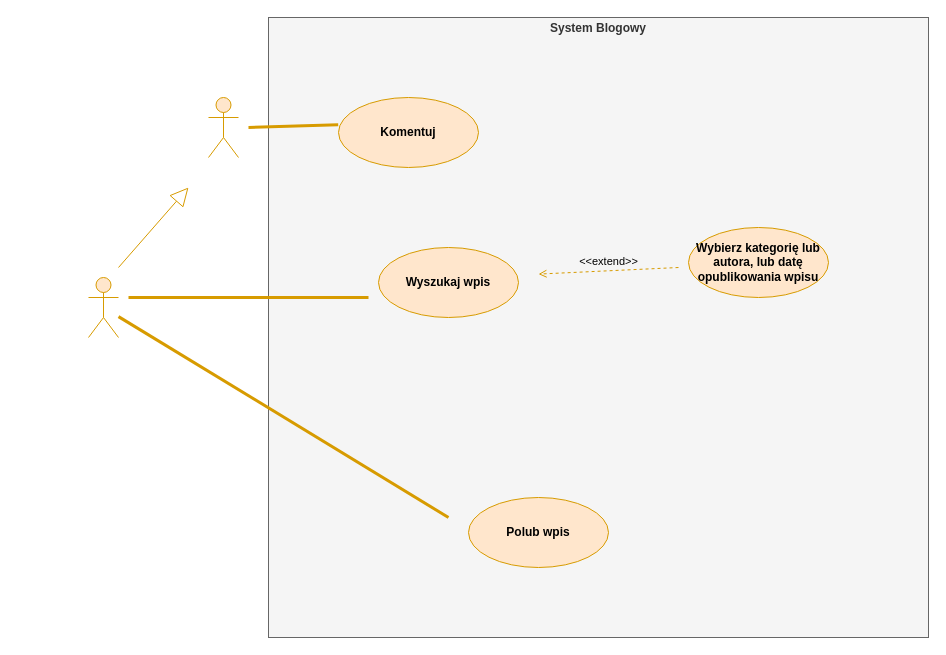
Some shapes in this 946 by 655 pixel diagram are drawn without their labels. Each missing label, with the box of its shape:
Uź ytkownik zarejestowany: (208, 96, 238, 158)
Użytkownik niezarejestrowany: (88, 276, 118, 338)
